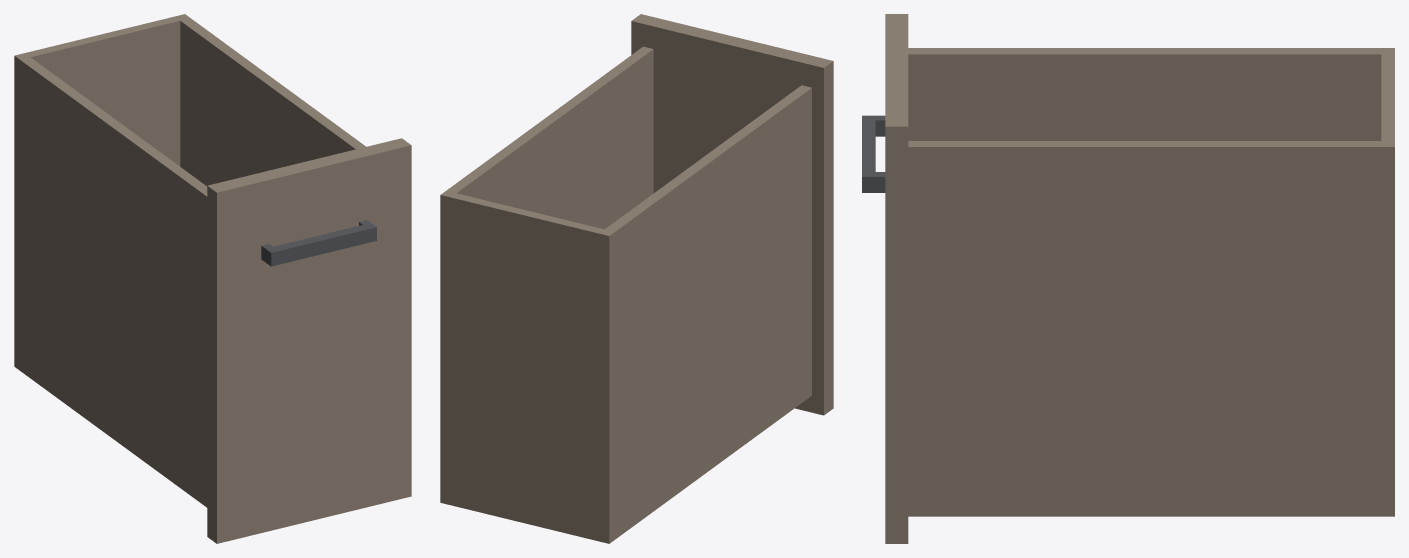
The model's file is Door2_C5_08.fbx.
3 renders of one model, left to right at view 1: azimuth 30°, elevation 25°; view 2: azimuth 150°, elevation 25°; view 3: azimuth 270°, elevation 25°, orthographic. The views are drawn at different scales.
Parts seen in each view (by area): view 1: Door2_C5_08; view 2: Door2_C5_08; view 3: Door2_C5_08.
Part boxes in pixels (x1,y1,x2,y2): Door2_C5_08: [14, 14, 411, 543]; Door2_C5_08: [440, 14, 833, 543]; Door2_C5_08: [862, 14, 1394, 543].
Bounding box in the file's own units: 29 × 50 × 57.89.
